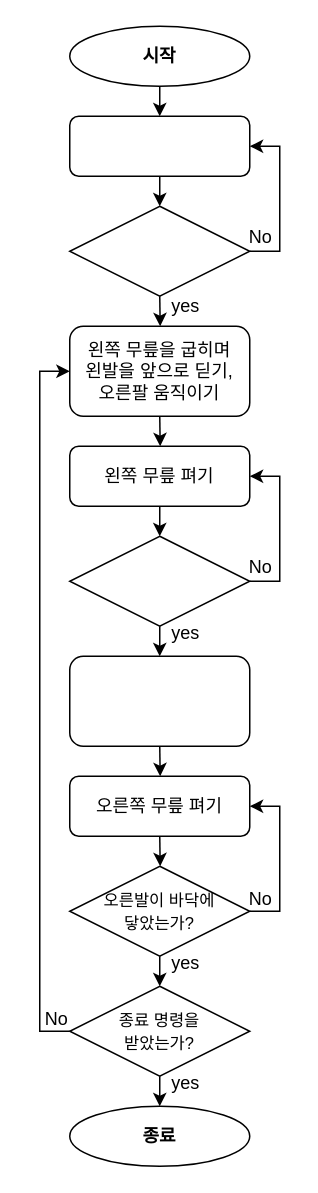
This 318x1193 diagram has some shape labels left out. Here are the shapes that lost their labels. From the top down, the box of each, then its label:
(68, 115, 250, 176): 대기 상태
(68, 205, 250, 296): 걷기 동작을 명령하였는가?
(68, 535, 250, 626): 왼발이 바닥에 닿았는가?
(68, 655, 250, 746): 오른쪽 무릎을 굽히며 오른발을 앞으로 딛기, 왼팔 움직이기
